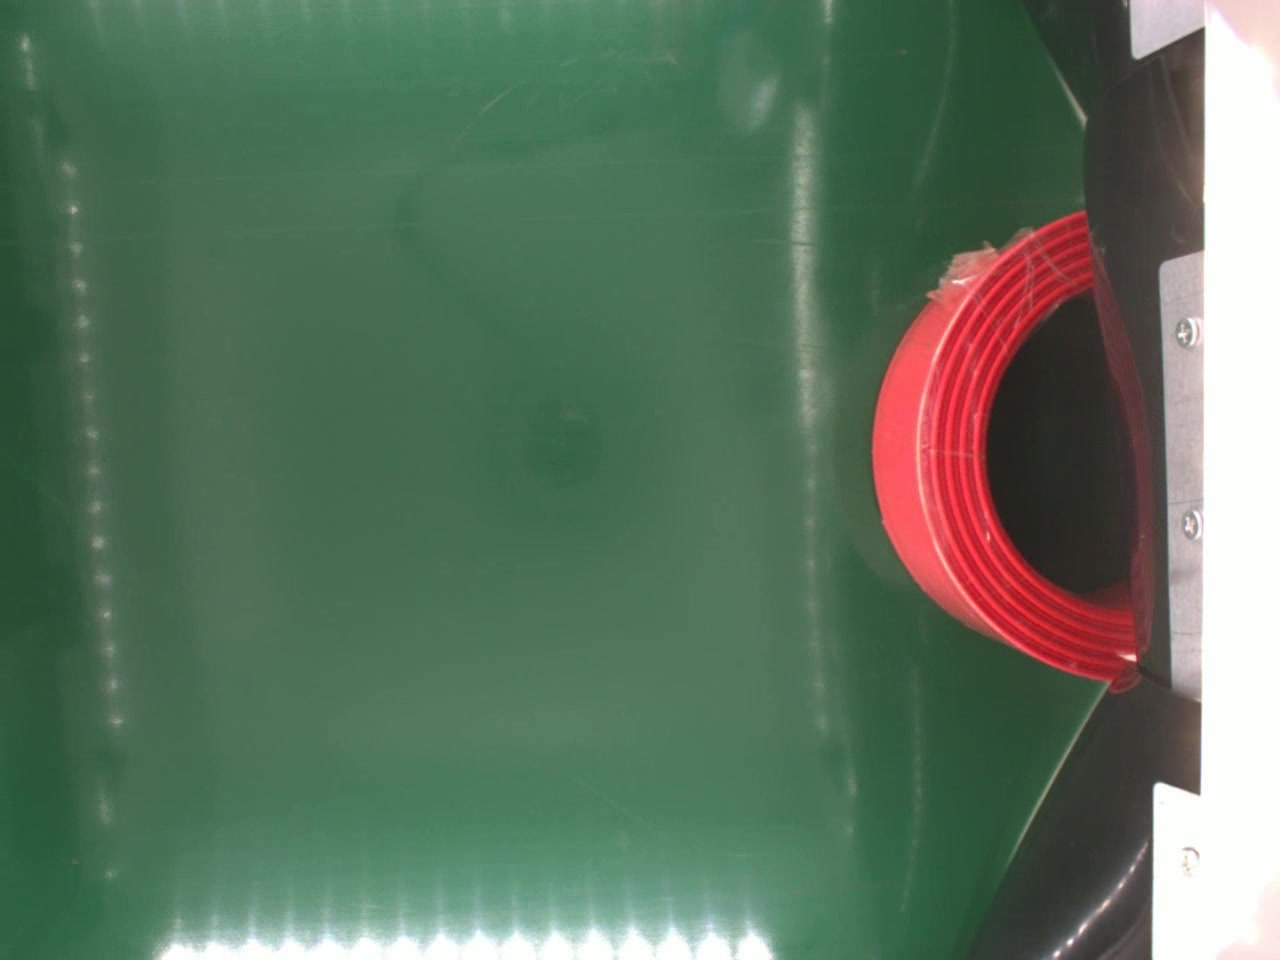red: (872, 205, 1138, 694)
